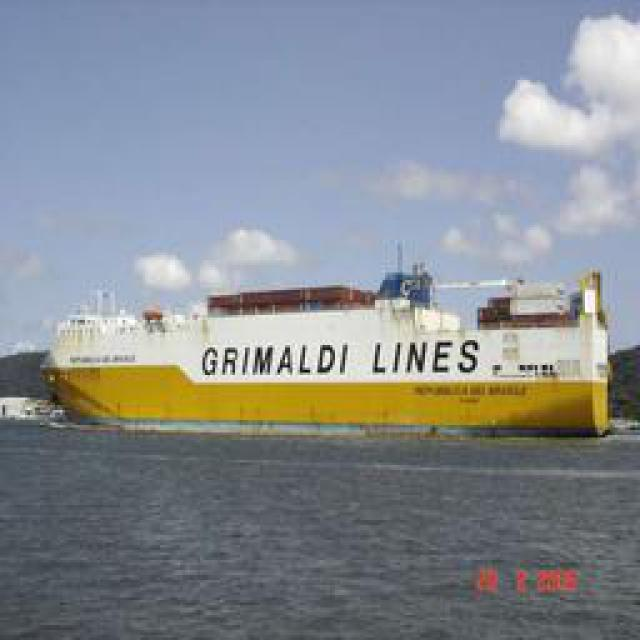Ship: (50, 256, 610, 439)
